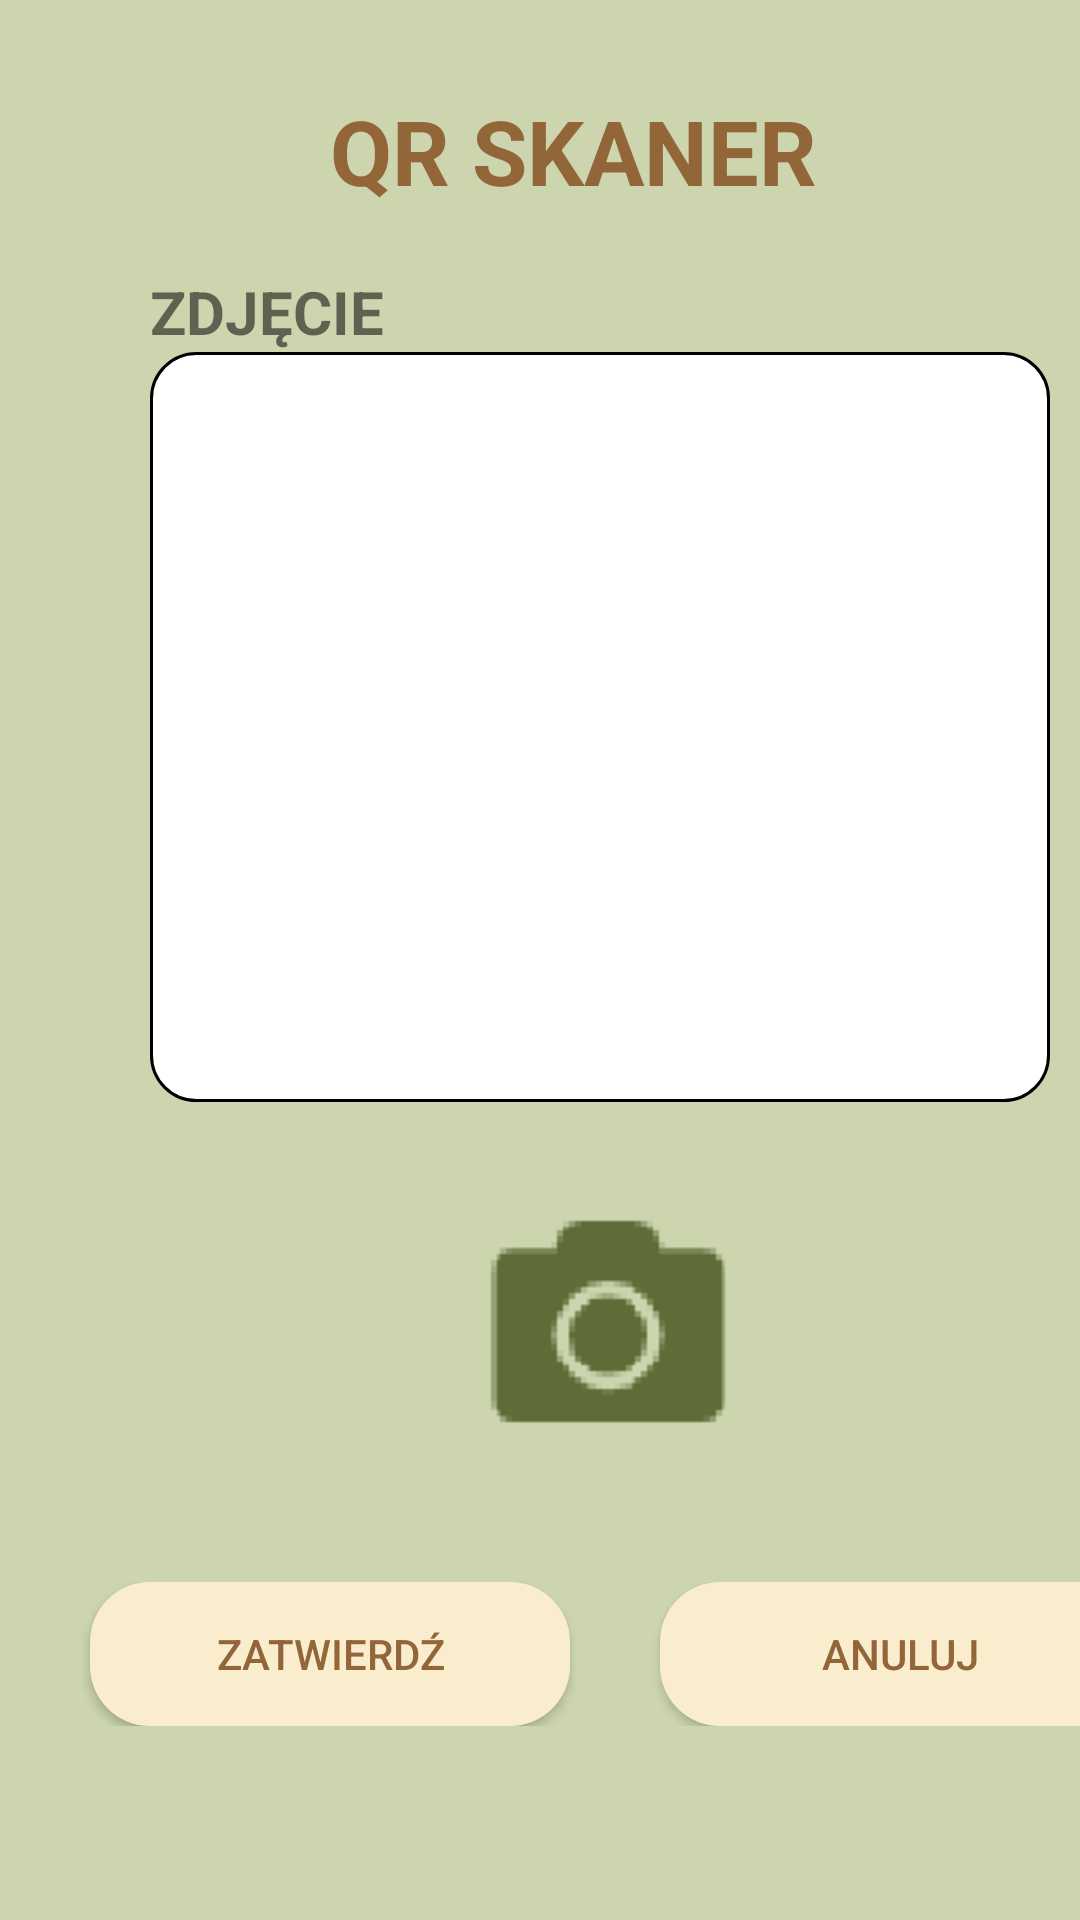

Screen size 1080x1920. Icon name, then its box in pixels as [x1, y1, x2, y2]:
camera button: [491, 1220, 725, 1423]
